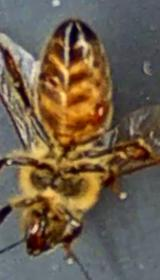varroa_mite: (84, 90, 116, 130)
